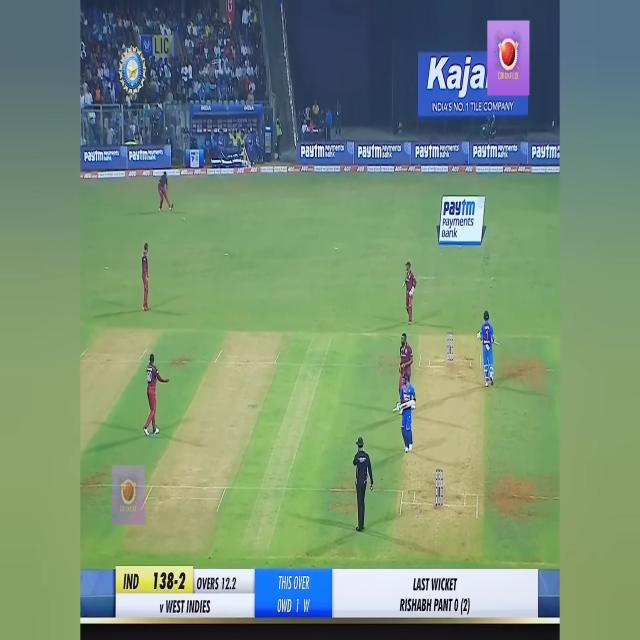fully_visible: (442, 194, 477, 220), (471, 142, 501, 163), (414, 141, 441, 163), (297, 142, 326, 160), (355, 143, 382, 161), (83, 148, 105, 167), (529, 147, 559, 160), (130, 150, 148, 161)
